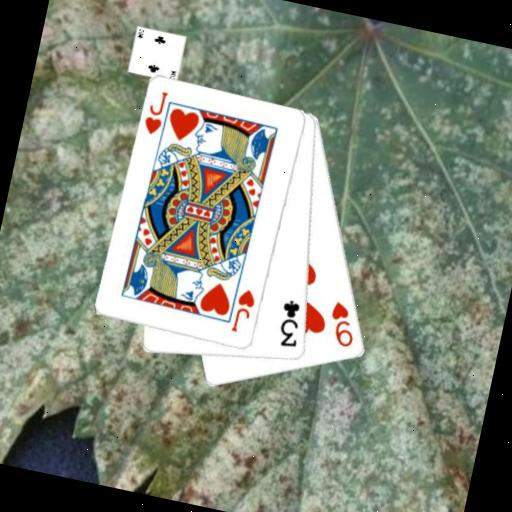3C: (271, 296, 308, 351)
9H: (322, 297, 363, 351)
JH: (228, 284, 259, 336), (139, 86, 170, 138)
